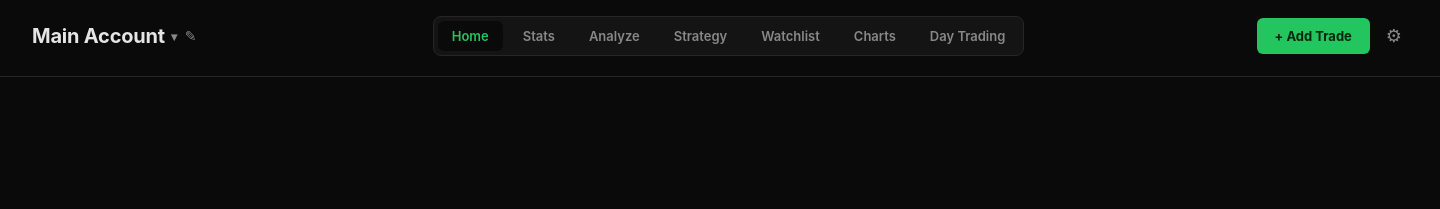
Test: Header › does not show a delete button for the shared Matt Cap account
Step 1. Click the button "Main Account" → point(104, 36), box x1=32 y1=20 x2=177 y2=52
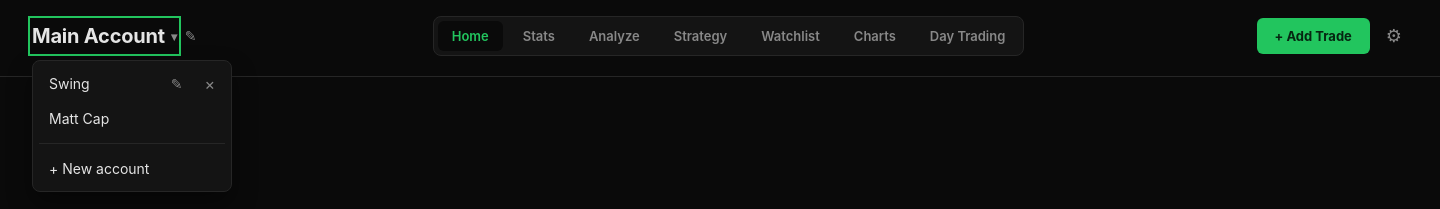
Expected: the button "Matt Cap" is shown, x1=39 y1=102 x2=225 y2=135
